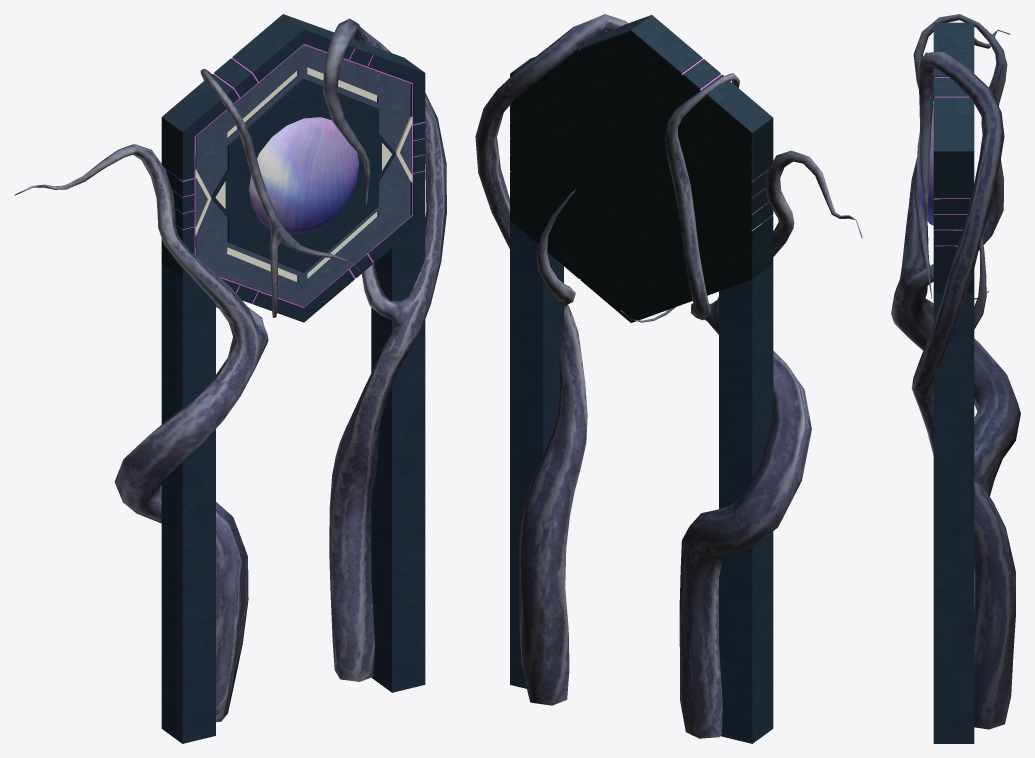
Rendered from Teleporter02_Art.glb.
The picture shows the model from 3 angles, left to right: view 1: azimuth 30°, elevation 25°; view 2: azimuth 150°, elevation 25°; view 3: azimuth 270°, elevation 25°; orthographic projection. The views are drawn at different scales.
Visible parts, largest first — view 1: Teleporter02_Art; view 2: Teleporter02_Art; view 3: Teleporter02_Art.
Boxes of the visible parts, x1,y1,x2,y2 form: Teleporter02_Art: (14, 14, 446, 743); Teleporter02_Art: (475, 14, 862, 743); Teleporter02_Art: (891, 14, 1020, 743).
Size of the model in its own units: 1.97 by 3.17 by 0.5629.
2 materials, 2 textured.
